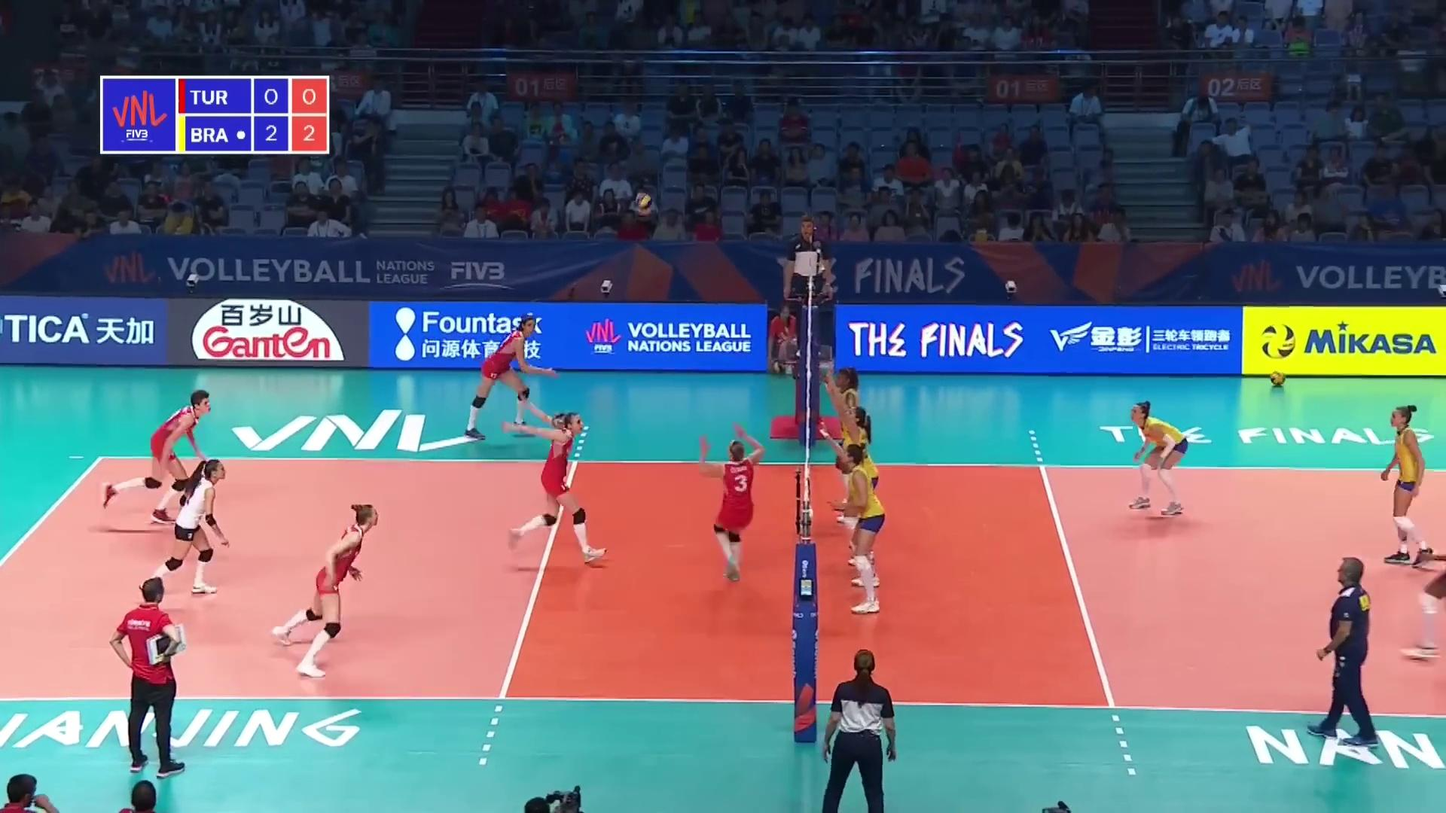player: (280, 501, 381, 677), (103, 390, 217, 535), (507, 412, 607, 563), (146, 458, 228, 601), (458, 318, 548, 442), (701, 427, 764, 585), (1382, 406, 1435, 565), (1121, 405, 1193, 518), (841, 446, 884, 617), (837, 397, 878, 569), (831, 366, 864, 522)
refree: (823, 650, 898, 810), (782, 215, 831, 358)
